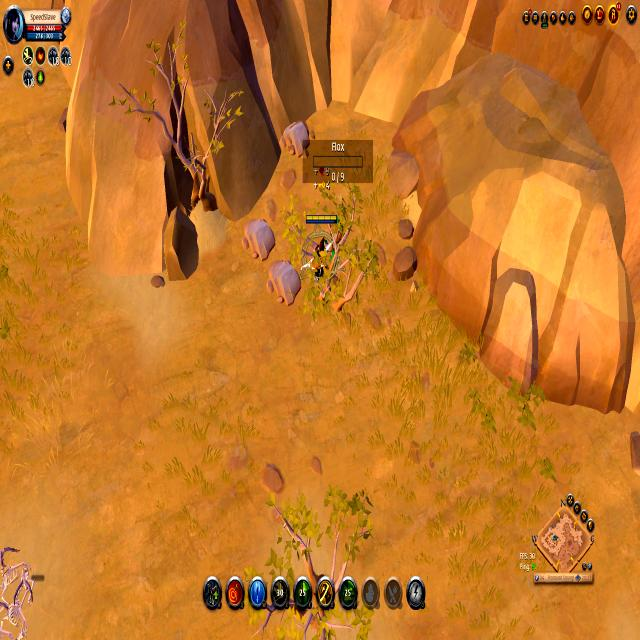red: (303, 210, 339, 279)
